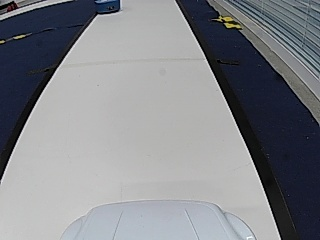prop: (95, 0, 119, 15)
